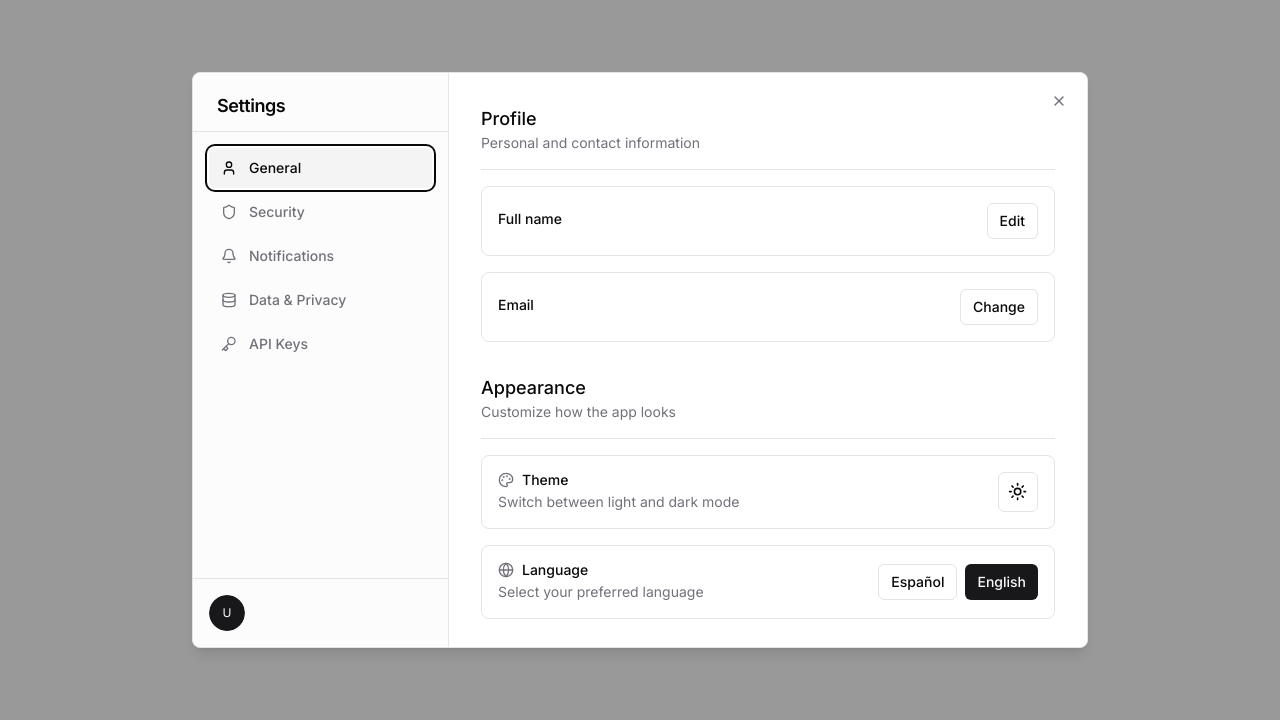
Test: SettingsModal › renders every section in English without Spanish leftovers
Expected: the heading "Settings" is shown, [217, 95, 285, 116]
Expected: the heading "Appearance" is shown, [481, 377, 586, 398]
Click the tab "Security".
click(320, 212)  # box [209, 192, 432, 232]
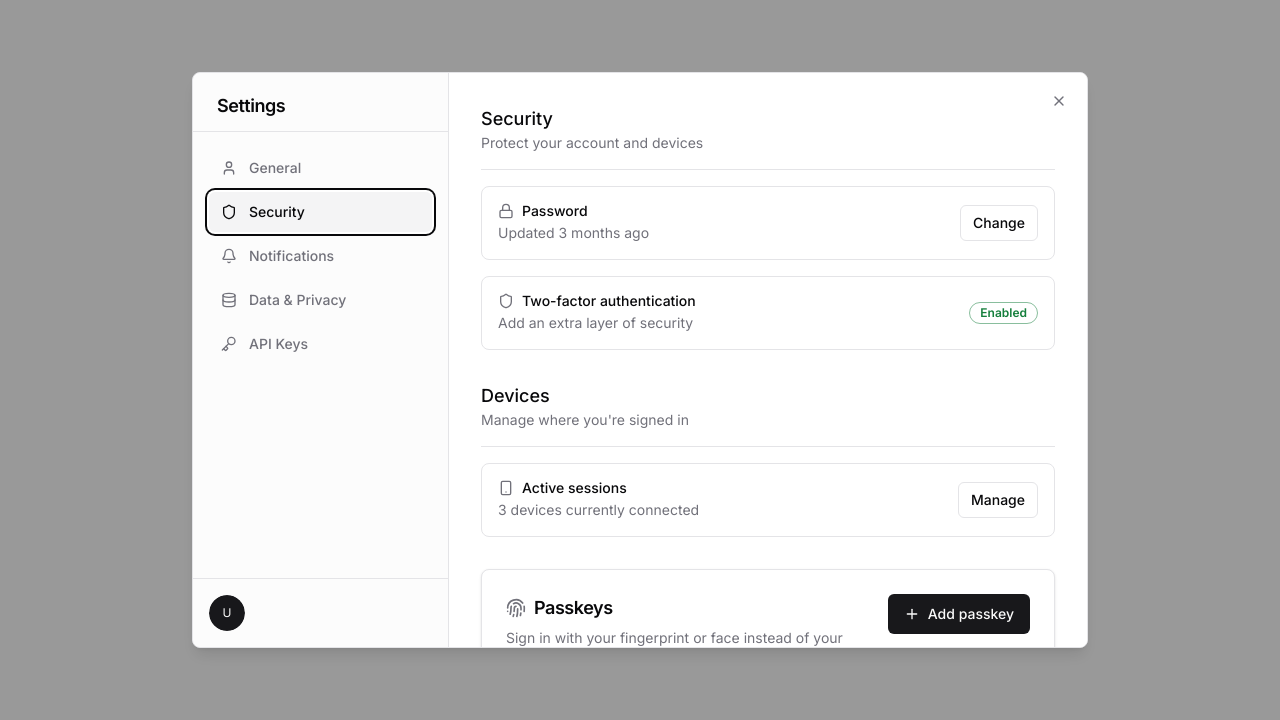
Click the tab "Notifications".
click(320, 256)  # box [209, 236, 432, 276]
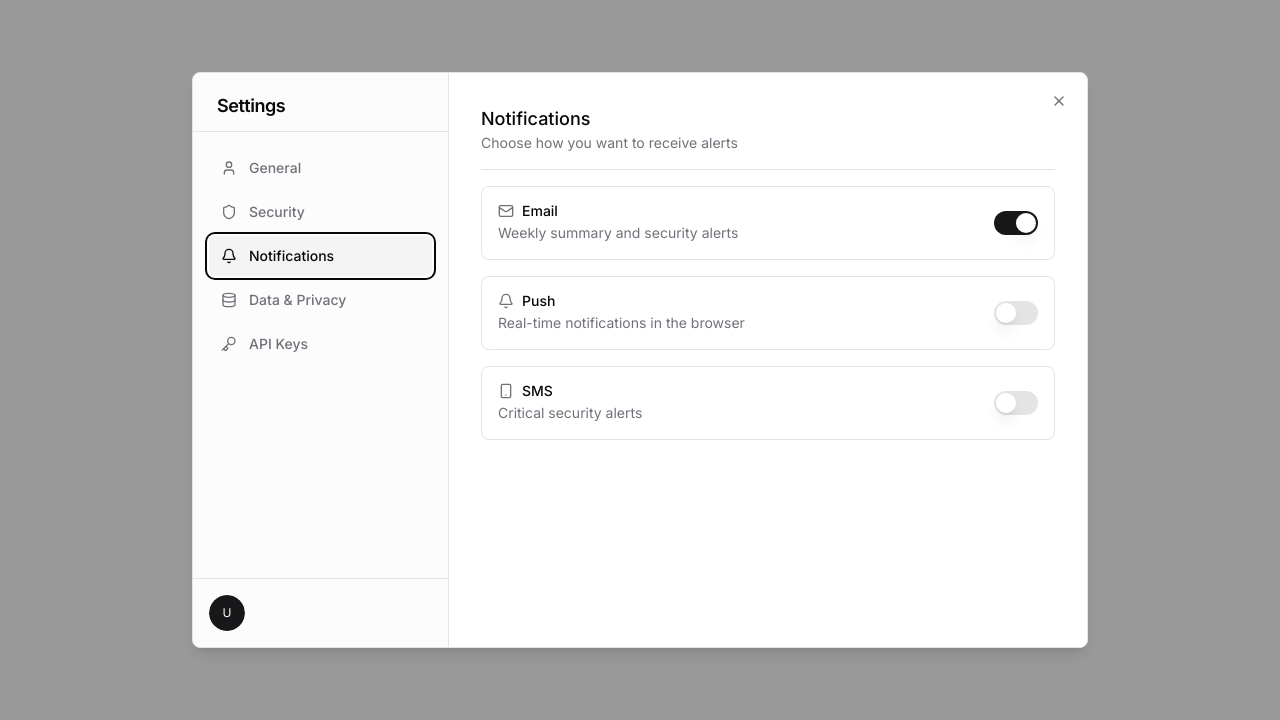
Click the tab "Data & Privacy".
click(320, 300)  # box [209, 280, 432, 320]
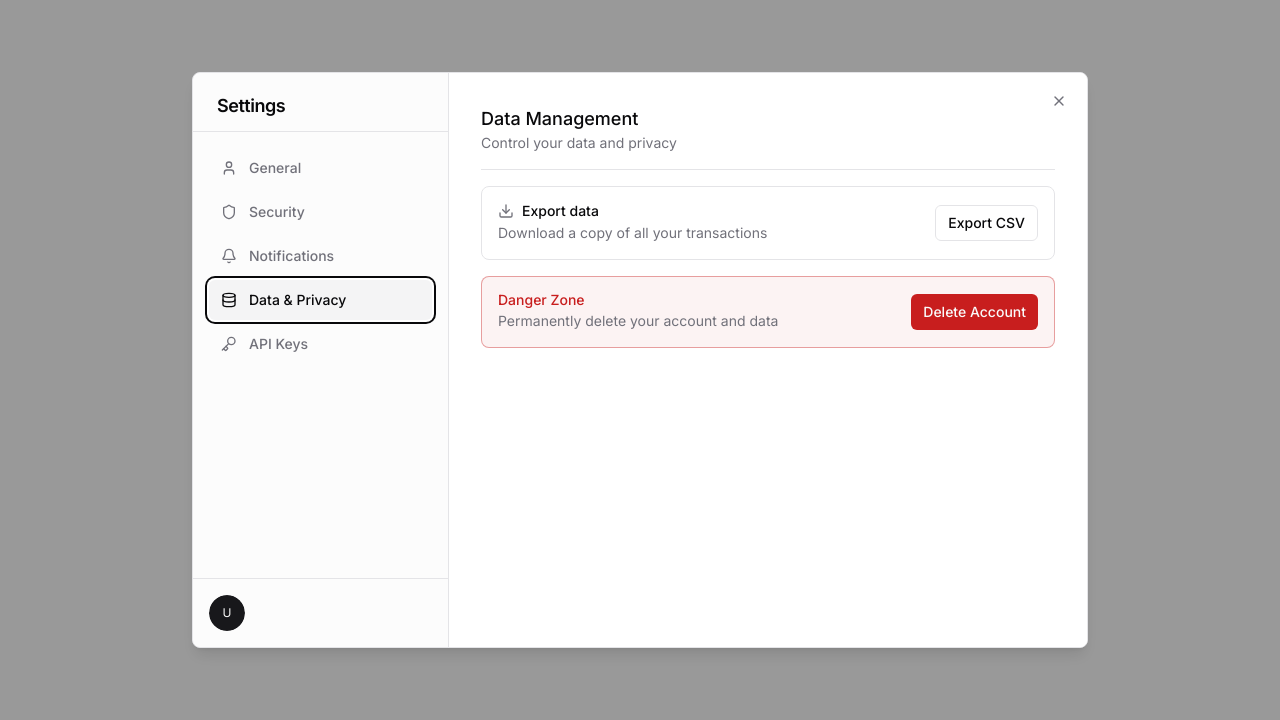
Expected: the button "Delete Account" is shown, [911, 294, 1038, 330]
